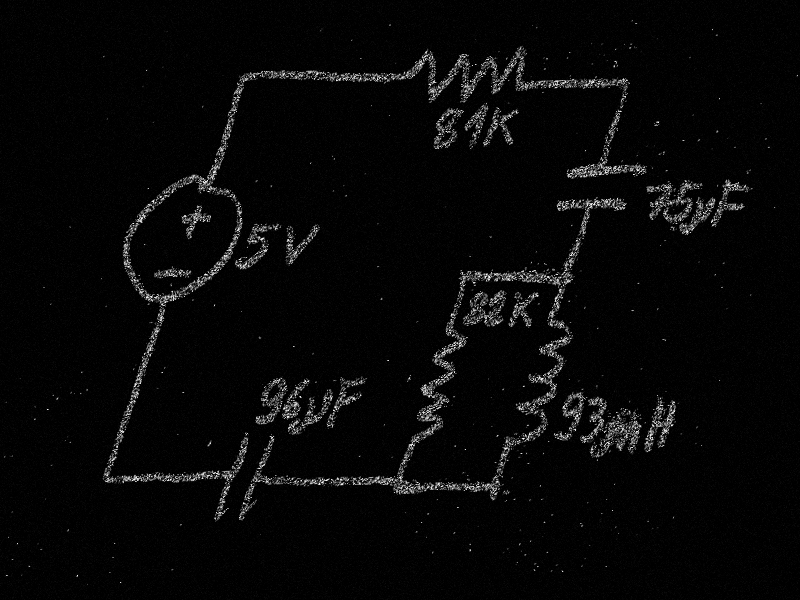1: (454, 101, 493, 153)
2: (481, 289, 513, 328)
3: (574, 396, 612, 444)
5: (232, 219, 284, 273), (665, 175, 705, 227)
6: (278, 377, 311, 421)
7: (634, 180, 680, 225)
8: (426, 105, 468, 152), (459, 289, 493, 328)
9: (248, 376, 292, 426), (549, 390, 589, 442)
F: (324, 375, 369, 429), (708, 178, 754, 230)
H: (638, 394, 683, 453)
V: (271, 222, 324, 268)
k: (480, 103, 527, 153), (503, 290, 543, 330)
m: (595, 417, 646, 457)
u: (293, 390, 336, 435), (686, 197, 716, 234)
